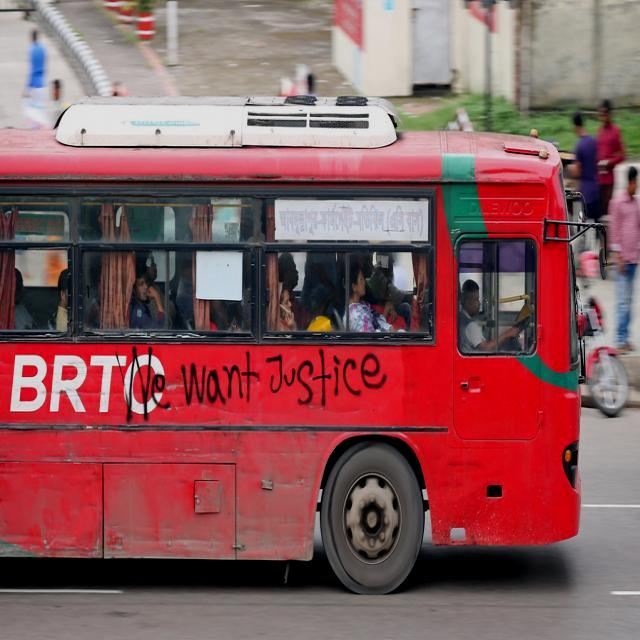bus: (2, 95, 610, 596)
